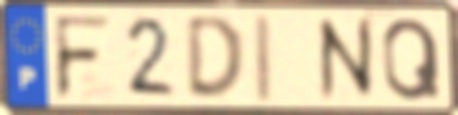2: (124, 14, 177, 104)
D: (183, 13, 248, 104)
F: (51, 13, 115, 103)
I: (252, 11, 276, 106)
N: (314, 14, 379, 106)
Q: (379, 15, 444, 104)
